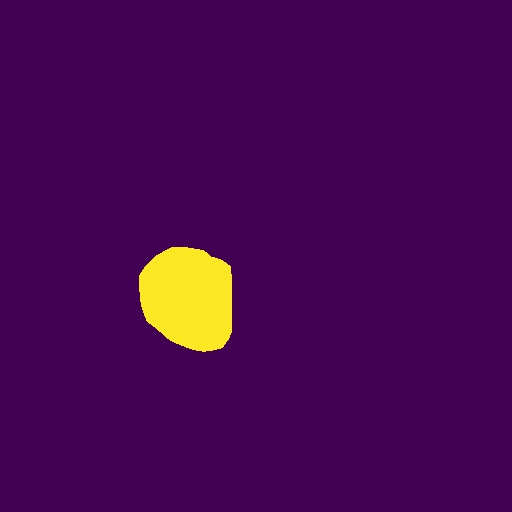Menigiomia_tumour: (139, 247, 232, 352)
